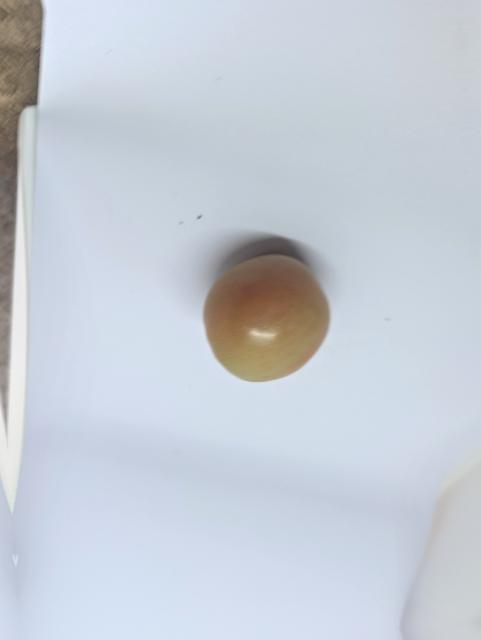turning: (198, 239, 344, 387)
